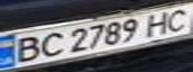2: (63, 25, 90, 55)
7: (84, 21, 109, 51)
8: (103, 19, 127, 47)
9: (118, 16, 145, 43)
B: (6, 34, 45, 65)
C: (157, 6, 193, 33), (36, 30, 66, 60)
H: (139, 9, 178, 37)
